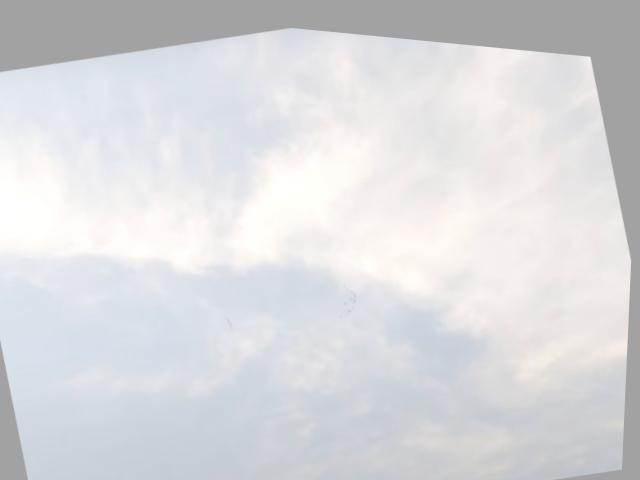iha: (225, 311, 238, 326)
